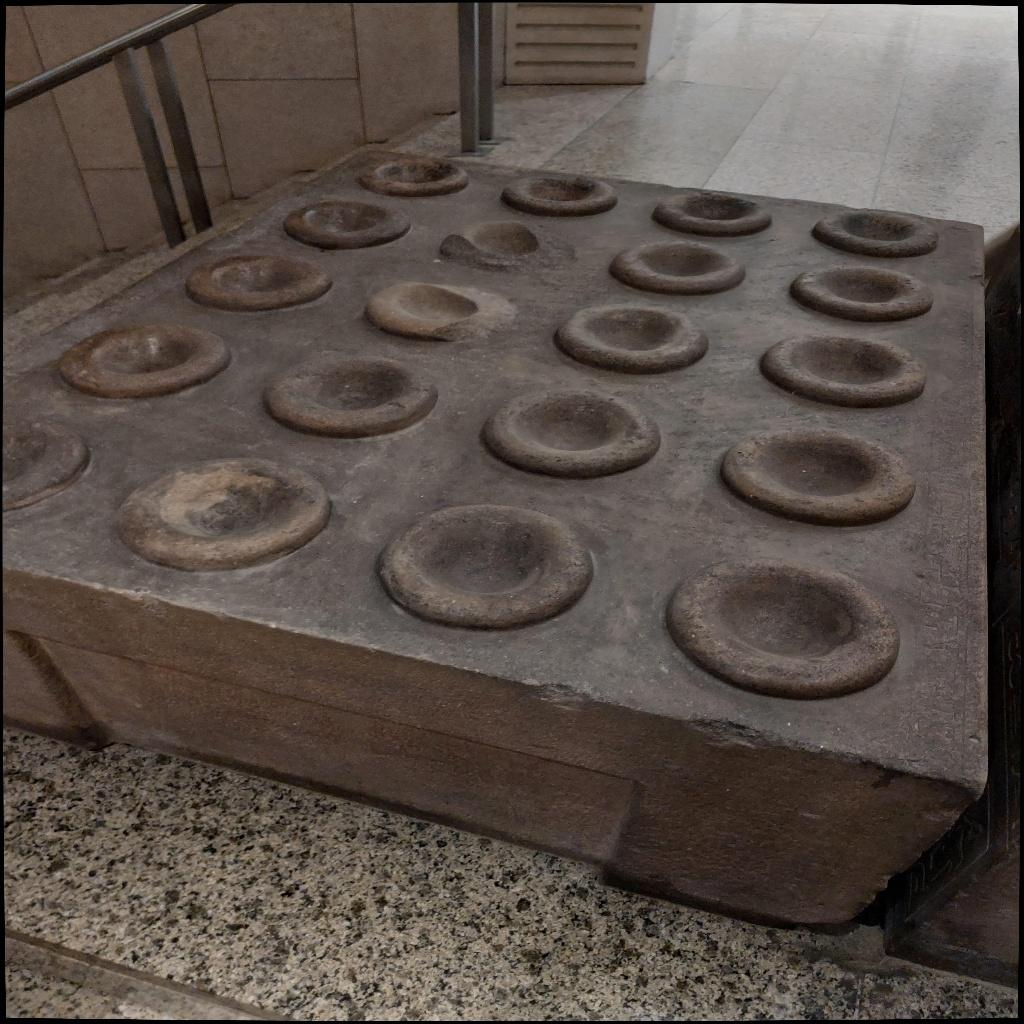Offering table of Amenemhat 6: (4, 146, 996, 928)
